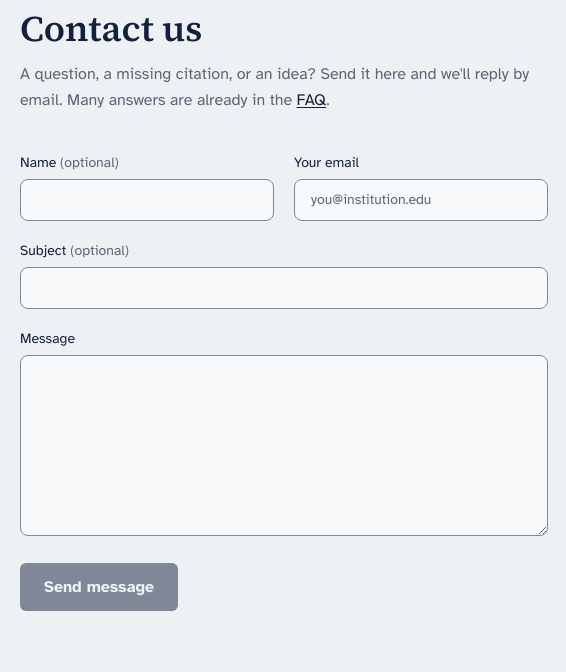
Test: Contact page › asks for more than a few words
Type "ada@uni.edu" into the field labelled "Your email".
click(421, 200); type("ada@uni.edu")  # box [294, 179, 548, 221]
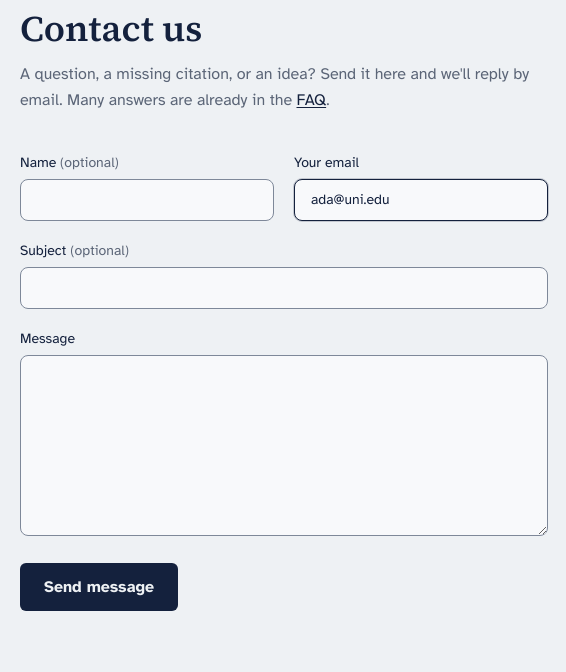
Type "hi" into the text box labelled "Message".
click(284, 446); type("hi")  # box [20, 355, 548, 536]
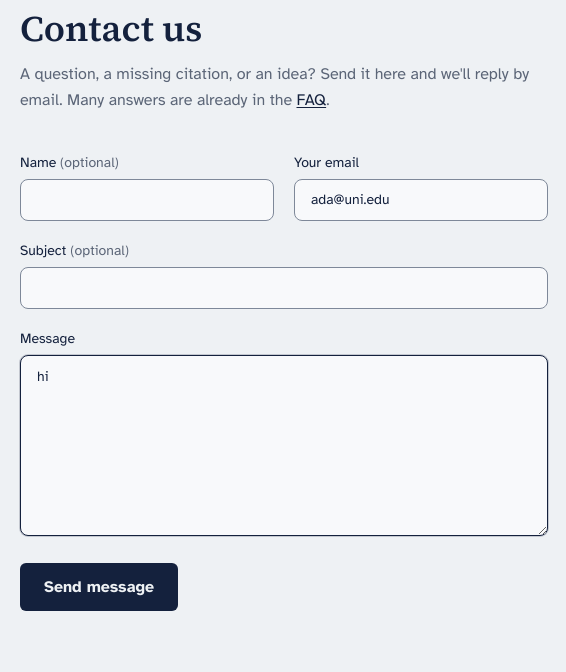
Click the button "Send message".
click(99, 587)  # box [20, 563, 178, 611]
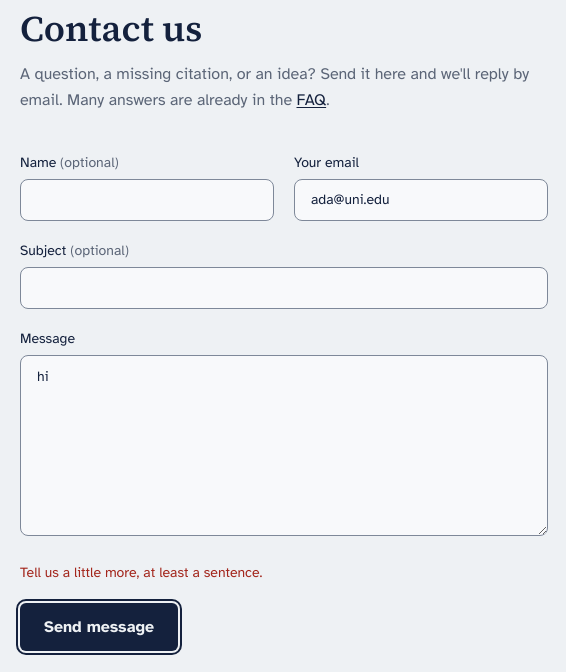
Expected: the message shows "Tell us a little more", [20, 564, 262, 581]
